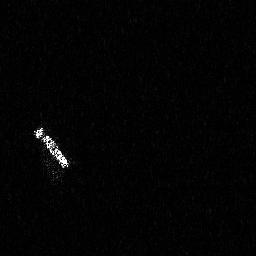ship: (32, 124, 71, 171)
